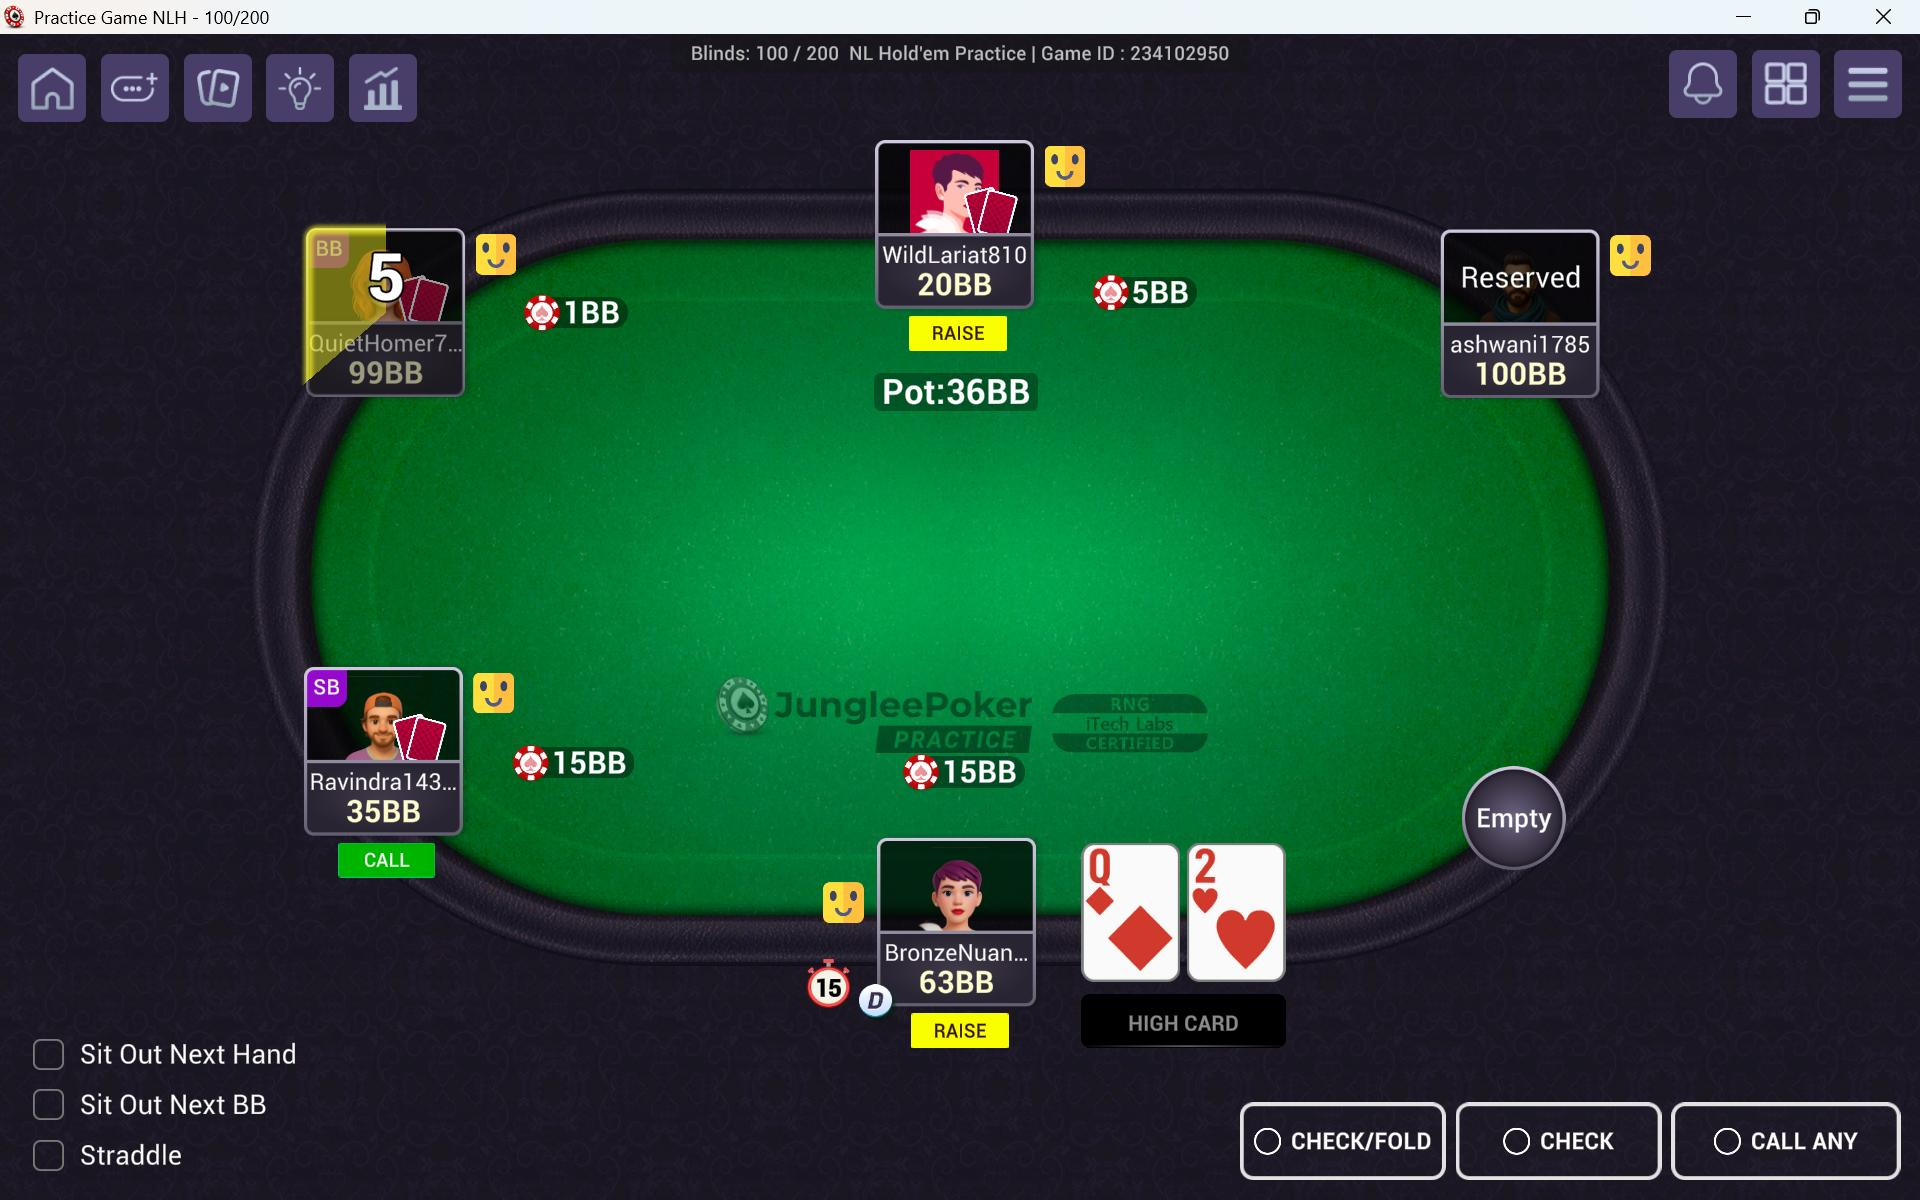card1_rank: (1085, 838, 1129, 897)
card1_suite_diamond: (1104, 901, 1176, 976)
card2_rank: (1185, 846, 1237, 888)
card2_suite_heart: (1212, 889, 1287, 979)
my_bet: (908, 753, 1034, 794)
my_stack: (881, 964, 1030, 1005)
position_BB: (310, 234, 350, 275)
position_SB: (305, 658, 347, 716)
total_pot: (875, 366, 1039, 419)
villian1_bet: (513, 744, 643, 784)
villian1_name: (305, 759, 462, 794)
villian1_stack: (305, 798, 462, 834)
villian2_bet: (520, 289, 630, 340)
villian2_name: (310, 324, 462, 361)
villian2_stack: (305, 358, 459, 402)
villian3_name: (875, 225, 1037, 272)
villian3_stack: (878, 259, 1034, 301)
villian4_bet: (1091, 263, 1200, 317)
villian4_name: (1447, 324, 1595, 362)
villian4_stack: (1444, 346, 1595, 390)
